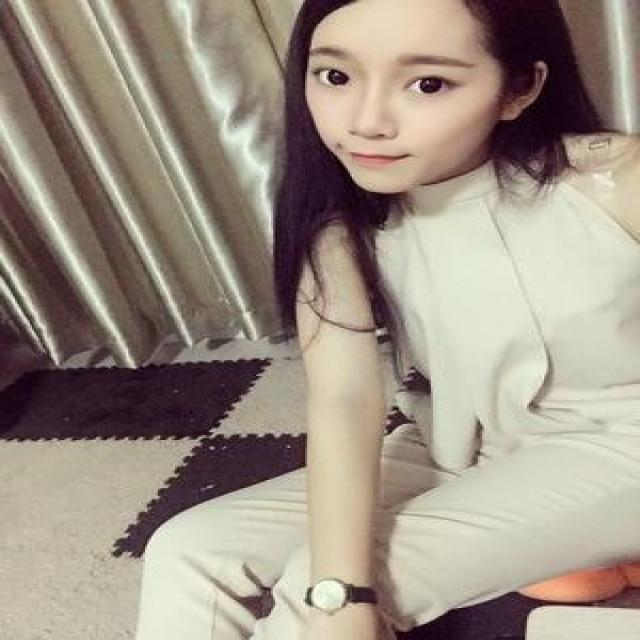trousers: (132, 392, 638, 638)
vest: (353, 139, 640, 472)
